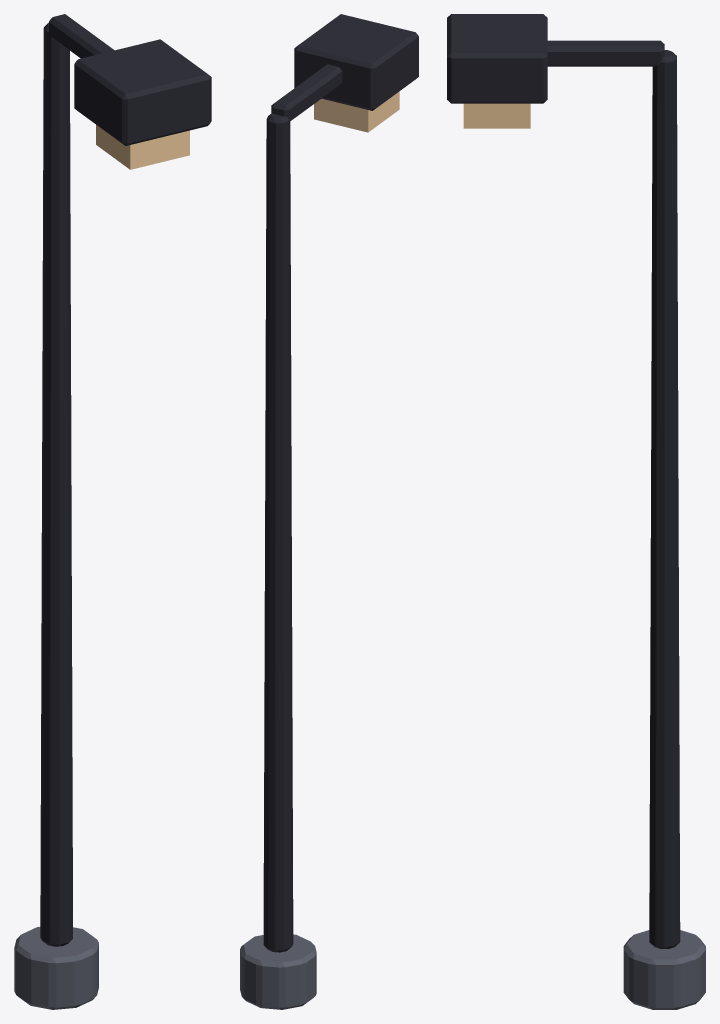
File: CatCafe_Alley_StreetLamp.fbx
The picture shows the model from 3 angles, left to right: view 1: azimuth 30°, elevation 25°; view 2: azimuth 150°, elevation 25°; view 3: azimuth 270°, elevation 25°; orthographic projection. The views are drawn at different scales.
Visible parts, largest first — view 1: CatCafe_Alley_StreetLamp_Post, CatCafe_Alley_StreetLamp_Bulb; view 2: CatCafe_Alley_StreetLamp_Post, CatCafe_Alley_StreetLamp_Bulb; view 3: CatCafe_Alley_StreetLamp_Post, CatCafe_Alley_StreetLamp_Bulb.
Boxes of the visible parts, x1=… form: CatCafe_Alley_StreetLamp_Post: x1=14, y1=14, x2=211, y2=1009; CatCafe_Alley_StreetLamp_Bulb: x1=96, y1=125, x2=189, y2=169; CatCafe_Alley_StreetLamp_Post: x1=240, y1=14, x2=418, y2=1009; CatCafe_Alley_StreetLamp_Bulb: x1=314, y1=91, x2=399, y2=132; CatCafe_Alley_StreetLamp_Post: x1=447, y1=14, x2=705, y2=1009; CatCafe_Alley_StreetLamp_Bulb: x1=463, y1=103, x2=530, y2=128.
Bounding box in the file's own units: 0.9 × 9.5 × 2.32.
Materials: 1 (1 with a texture image).
